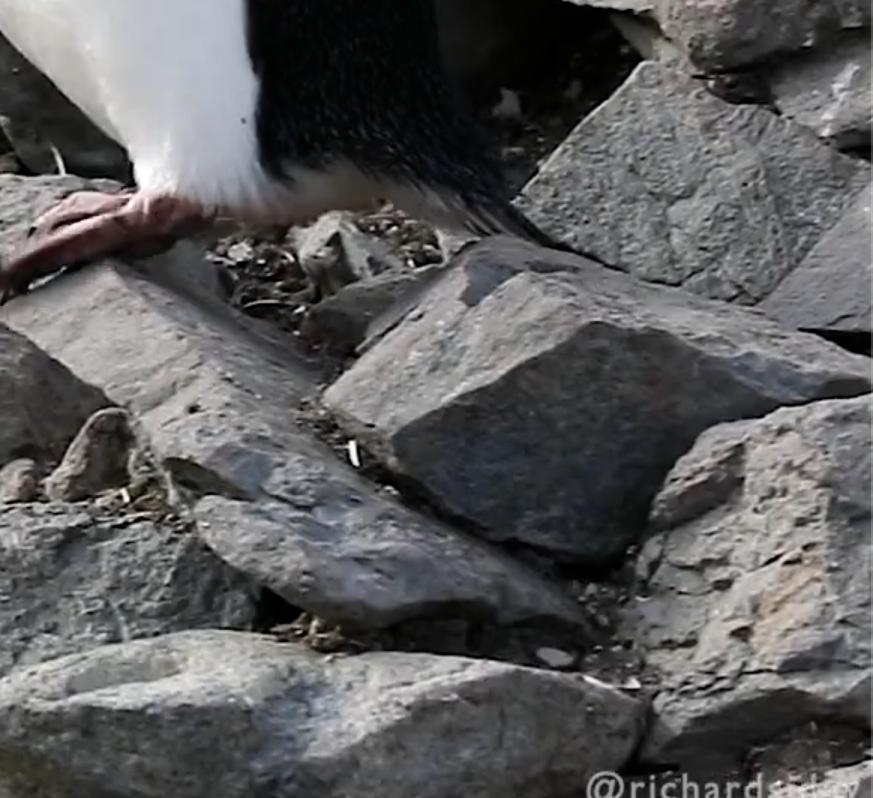Chinstrap Penguin: (0, 0, 471, 299)
